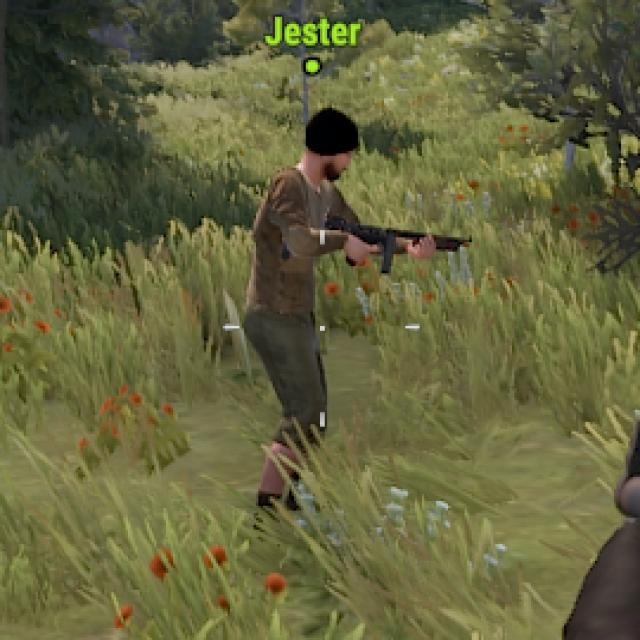Player: (240, 110, 389, 518)
